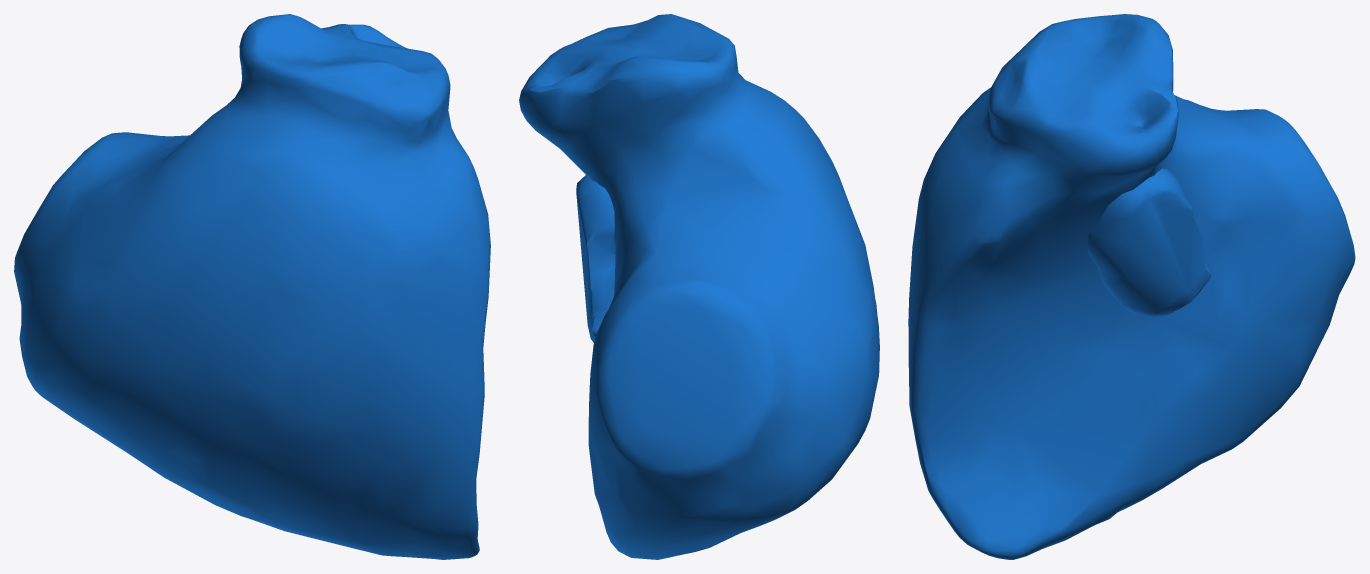
File: bilikTutup.glb
3 renders of one model, left to right at view 1: azimuth 30°, elevation 25°; view 2: azimuth 150°, elevation 25°; view 3: azimuth 270°, elevation 25°, orthographic. The views are drawn at different scales.
Parts seen in each view (by area): view 1: FJ2437_BP48646_FMA7262_Septal papillary muscle of right vent; view 2: FJ2437_BP48646_FMA7262_Septal papillary muscle of right vent; view 3: FJ2437_BP48646_FMA7262_Septal papillary muscle of right vent.
Part boxes in pixels (x1,y1,x2,y2): FJ2437_BP48646_FMA7262_Septal papillary muscle of right vent: [14, 14, 490, 559]; FJ2437_BP48646_FMA7262_Septal papillary muscle of right vent: [519, 14, 879, 559]; FJ2437_BP48646_FMA7262_Septal papillary muscle of right vent: [908, 14, 1355, 559].
Size of the model in its own units: 0.0612 by 0.0833 by 0.0692.
